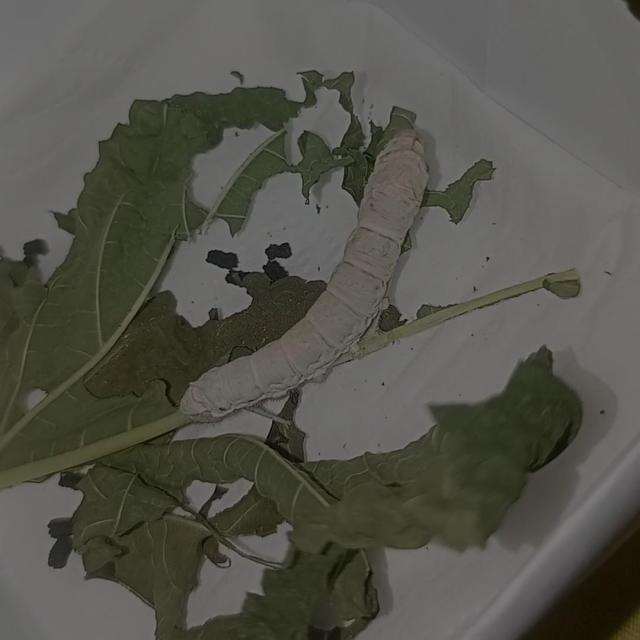Healthy: (163, 106, 469, 489)
